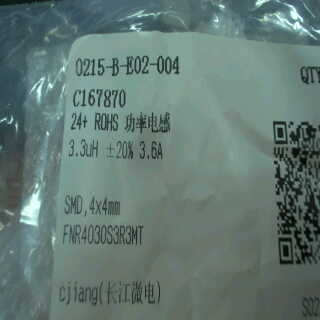3.3uH: (63, 134, 102, 165)
